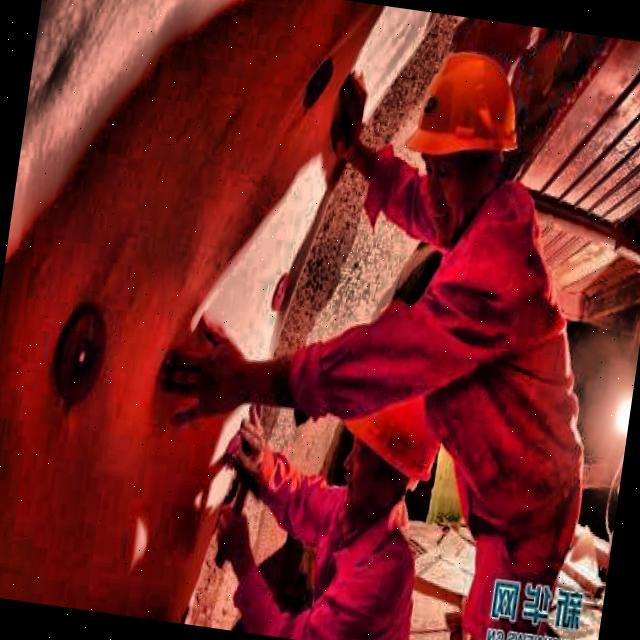helmet: (385, 25, 546, 252), (327, 388, 448, 538)
